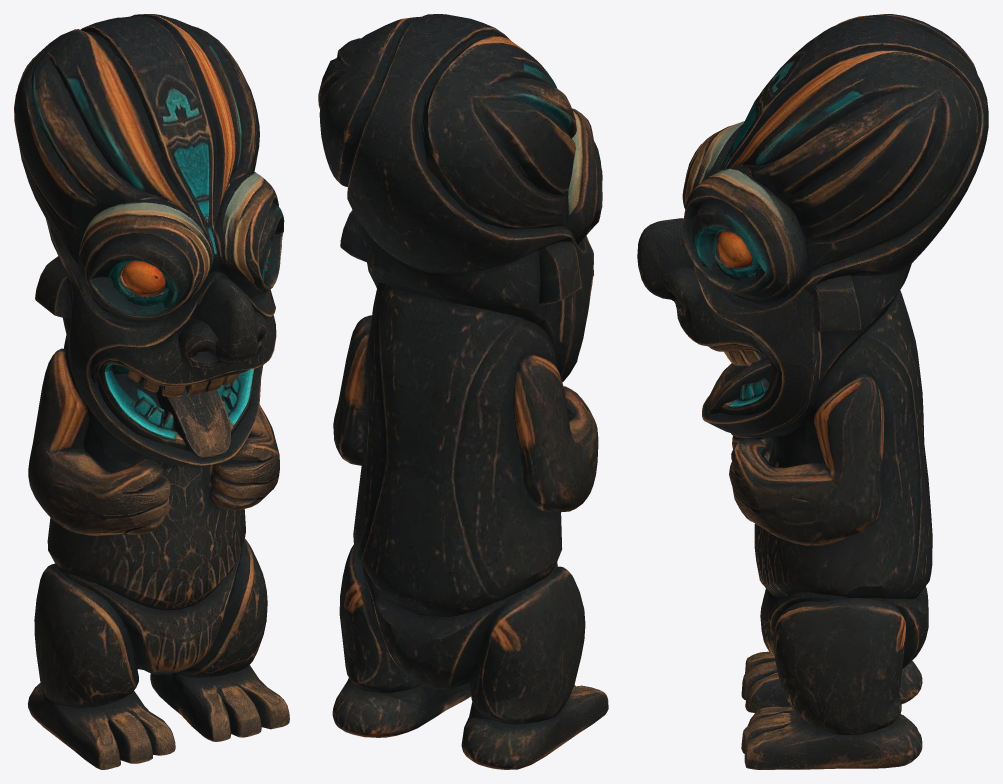
The model's file is tiki-statue.glb.
The picture shows the model from 3 angles, left to right: view 1: azimuth 30°, elevation 25°; view 2: azimuth 150°, elevation 25°; view 3: azimuth 270°, elevation 25°; orthographic projection. The views are drawn at different scales.
Size of the model in its own units: 0.6661 by 1.9 by 0.8714.
Materials: 1 (1 with a texture image).
